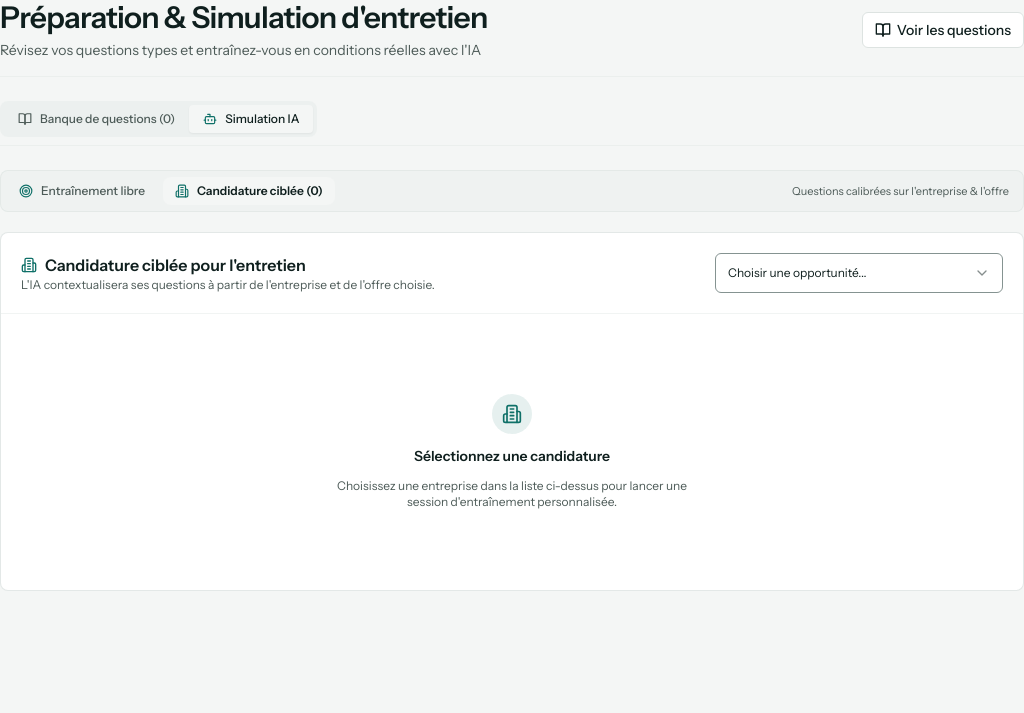
Test case: Sprint 3: Features & Integration Tests › TICK-302: Free Practice Mode (Entraînement Libre) › allows users to configure and launch a free practice interview session
Expected: the text "Entraînement libre" is shown, [41,183,145,199]
Switch to free practice mode
Click the button "Entraînement libre" at (82, 191), box [7,177,157,205]
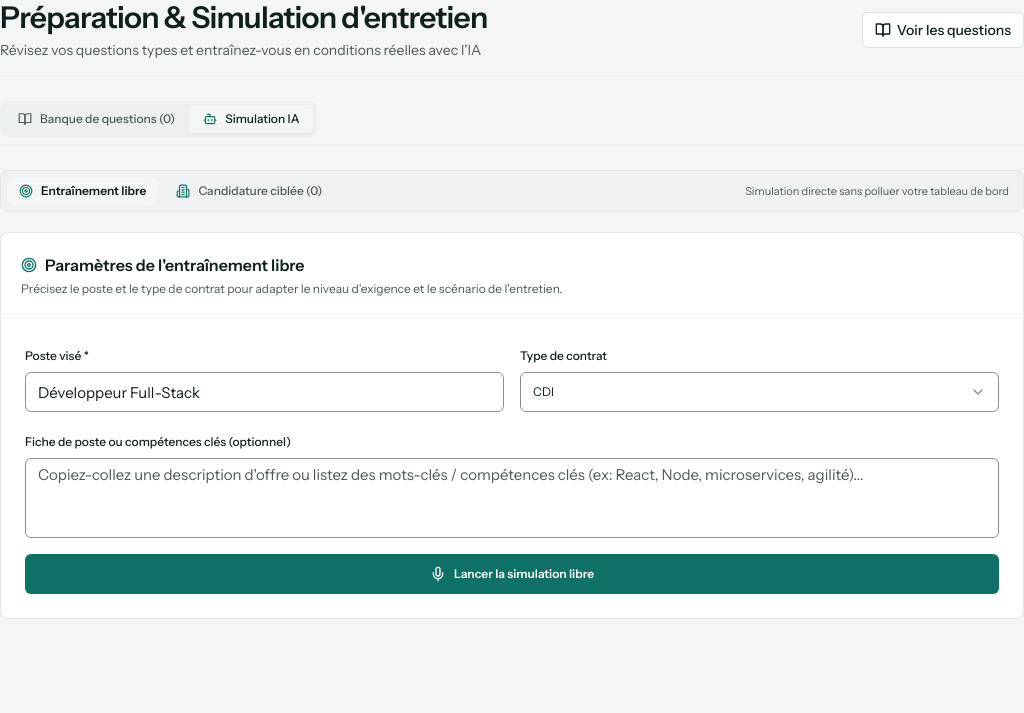
Now the heading "Paramètres de l'entraînement libre" is shown, box [21,255,304,275]
Fill in custom role
Replace the text in the field with placeholder "Ex: Développeur Full-Stack, Product Manager..." with "Lead DevOps Engineer" at (264, 392), box [25,372,504,412]
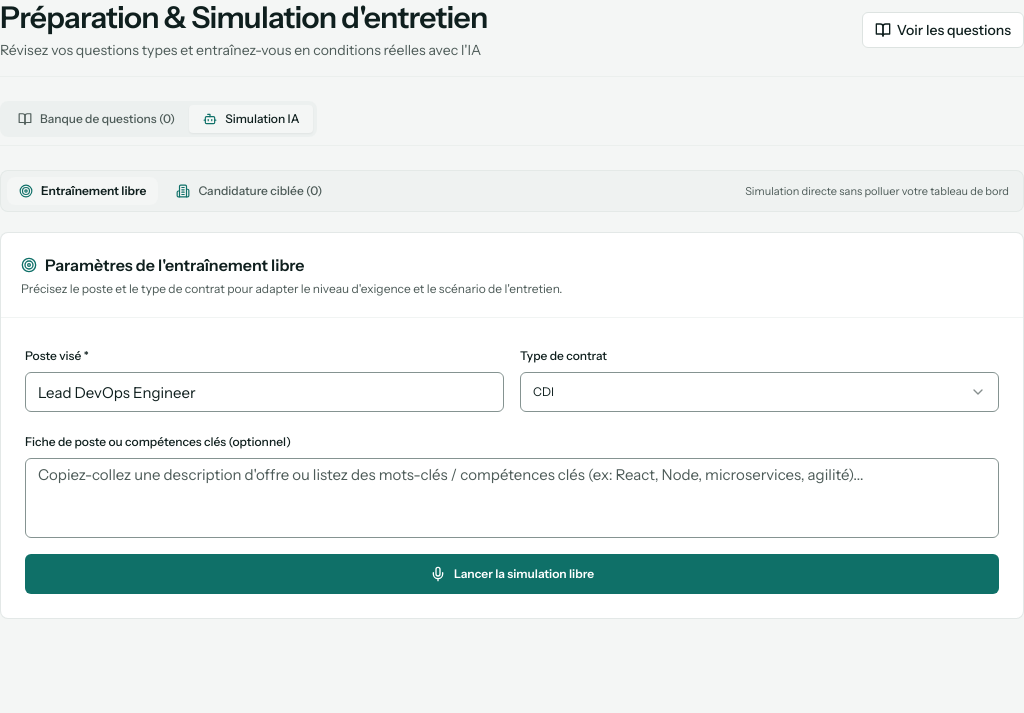
Click "Lancer la simulation libre"
Click the button "Lancer la simulation libre" at (512, 574), box [25,554,999,594]
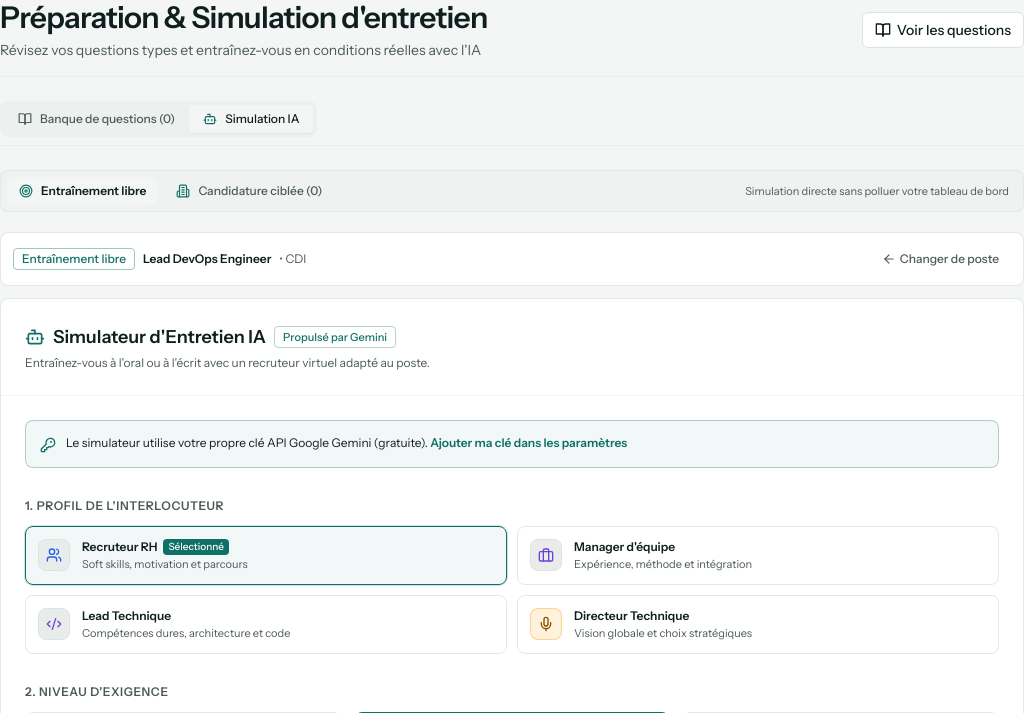
Now the text "Lead DevOps Engineer" is shown, box [143,251,271,267]
Now the button "Changer de poste" is shown, box [870,245,1011,273]
